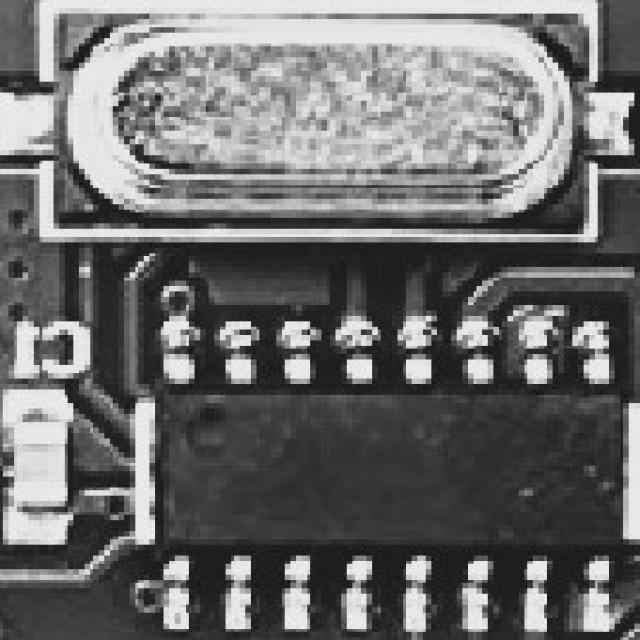IC: (140, 353, 640, 613)
capacitor 1V5: (8, 403, 73, 525)
clock Q1: (55, 12, 590, 235)
